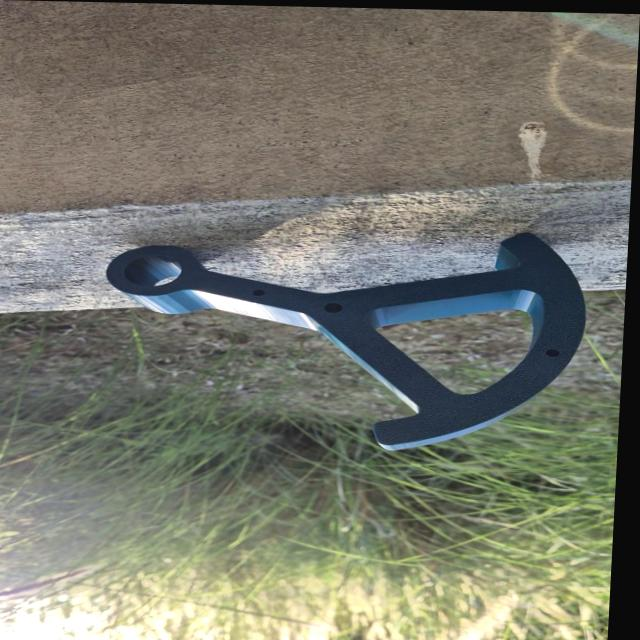haptic: (95, 220, 593, 457)
